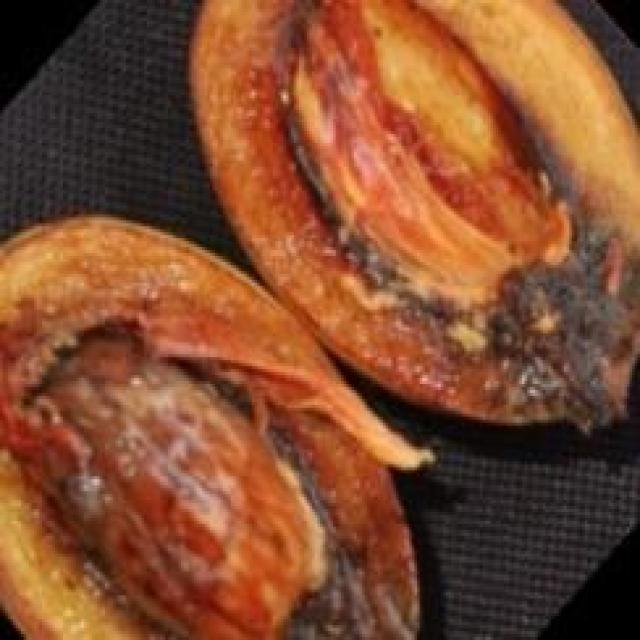damaged: (186, 0, 637, 438), (0, 217, 435, 637)
